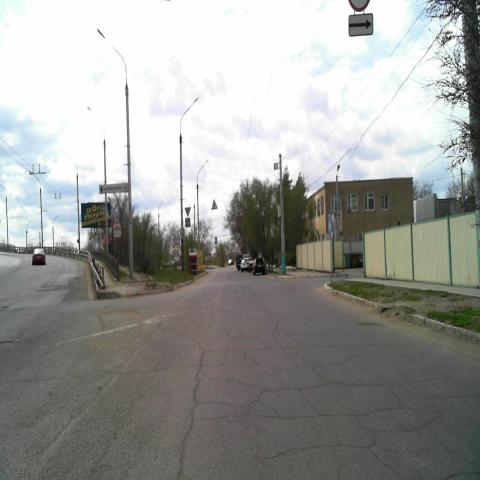1_15: (112, 215, 121, 229)
8_3_1: (348, 14, 374, 36)
